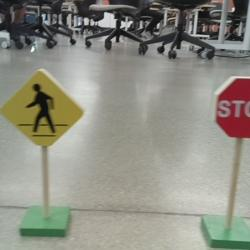pedestrian_crossing: (0, 68, 84, 146)
stop: (213, 75, 250, 139)
